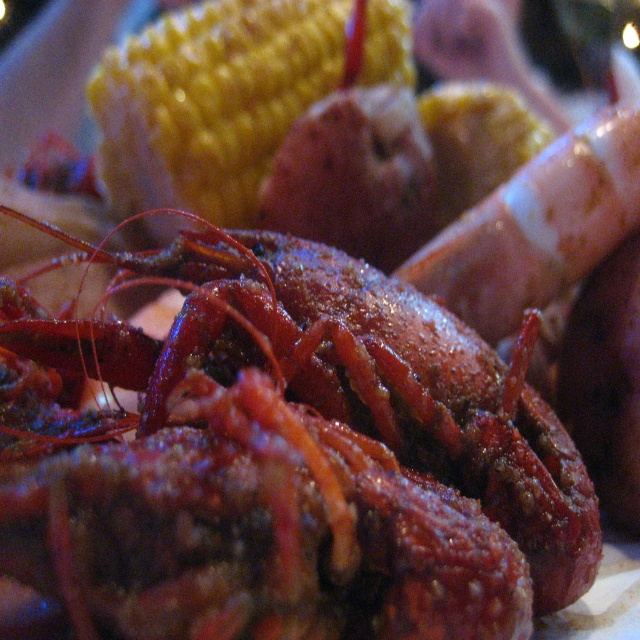Crab: (0, 197, 608, 639)
